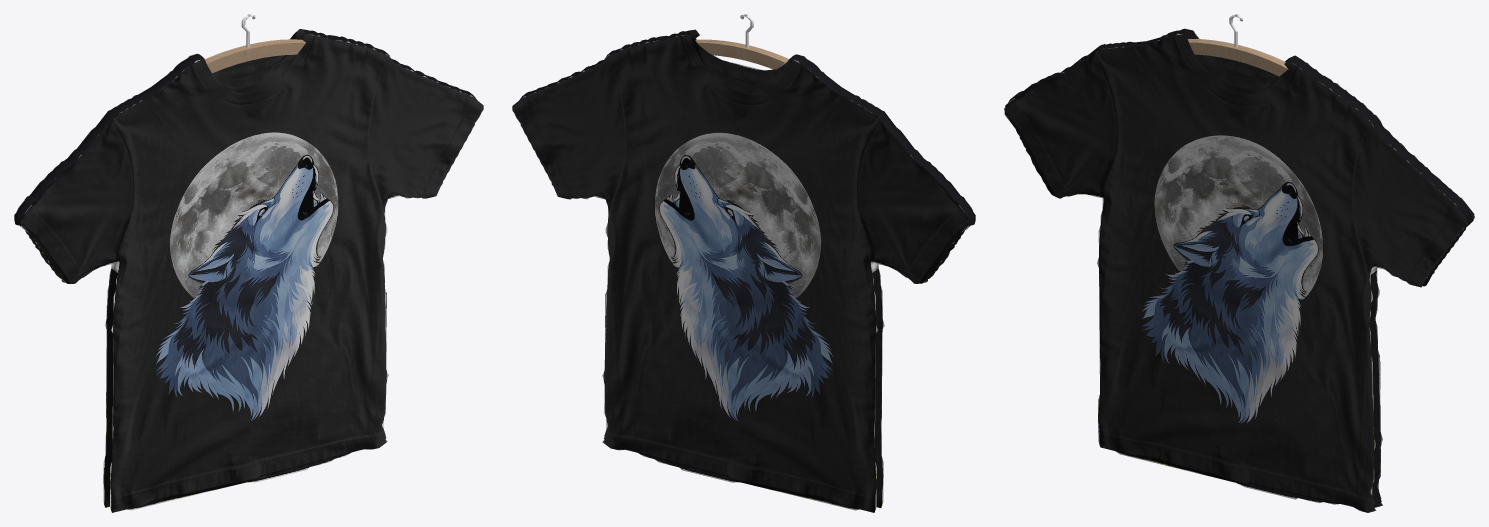
File: howling-wolf-t-shirt-on-a-clothes-hanger-680bf5adb9b9c.glb
3 views of the same model, side by side, from view 1: azimuth 30°, elevation 25°; view 2: azimuth 150°, elevation 25°; view 3: azimuth 330°, elevation 25° (orthographic).
Visible parts, largest first — view 1: Wolf shirt, Hanger; view 2: Wolf shirt, Hanger; view 3: Wolf shirt, Hanger.
Boxes of the visible parts, x1,y1,x2,y2 form: Wolf shirt: (14, 29, 483, 512); Hanger: (205, 14, 305, 73); Wolf shirt: (512, 29, 975, 512); Hanger: (695, 14, 788, 69); Wolf shirt: (1004, 28, 1474, 512); Hanger: (1188, 14, 1288, 76).
Size of the model in its own units: 21.23 by 20.46 by 0.8062.
Materials: 4 (3 with a texture image).
